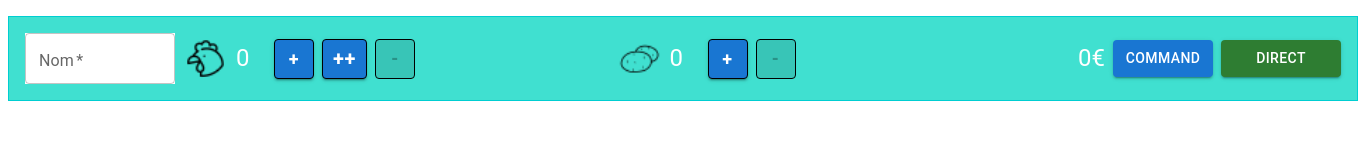
Scenario: OrderForm › shows success notification on successful order
Type "John Doe" into the field labelled "Nom *" at (100, 58), box [25,33,175,84]
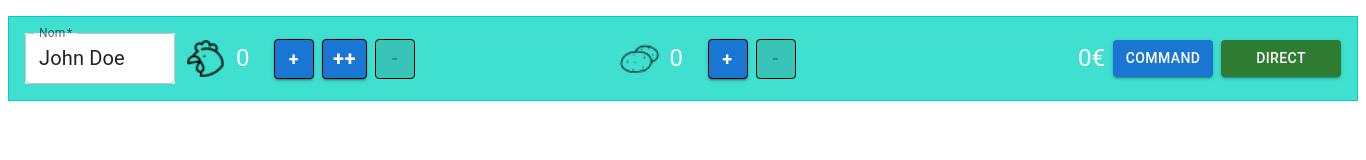
Press the mouse on the 1st button titled "Ajouter un demi poulet" at (294, 58), box [274,38,314,78]
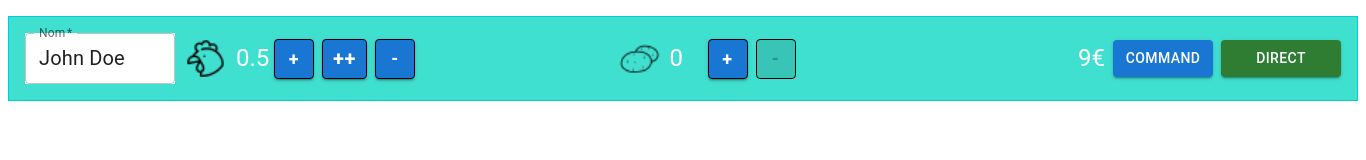
Click the button "Command" at (1163, 59), box [1113,40,1213,77]
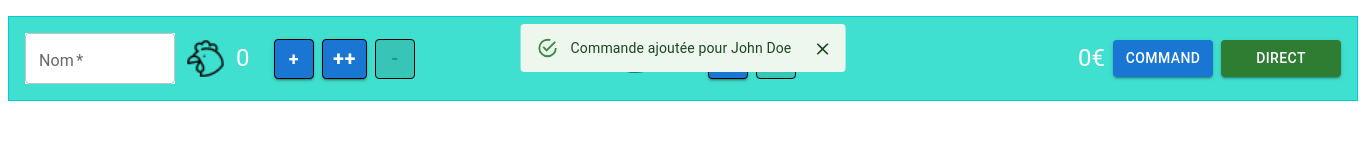
Expected: the text "Commande ajoutée pour John Doe" is shown, [571,40,792,56]
